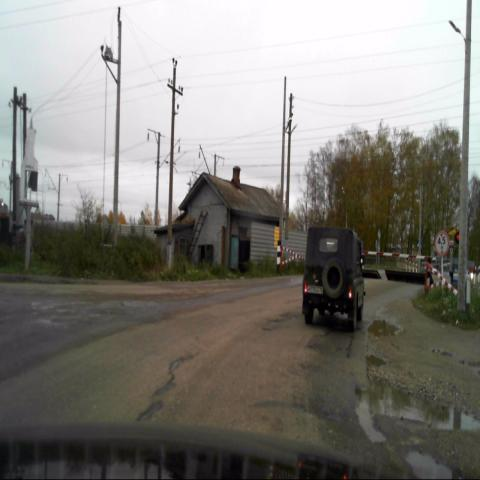3_13: (434, 230, 449, 256)
